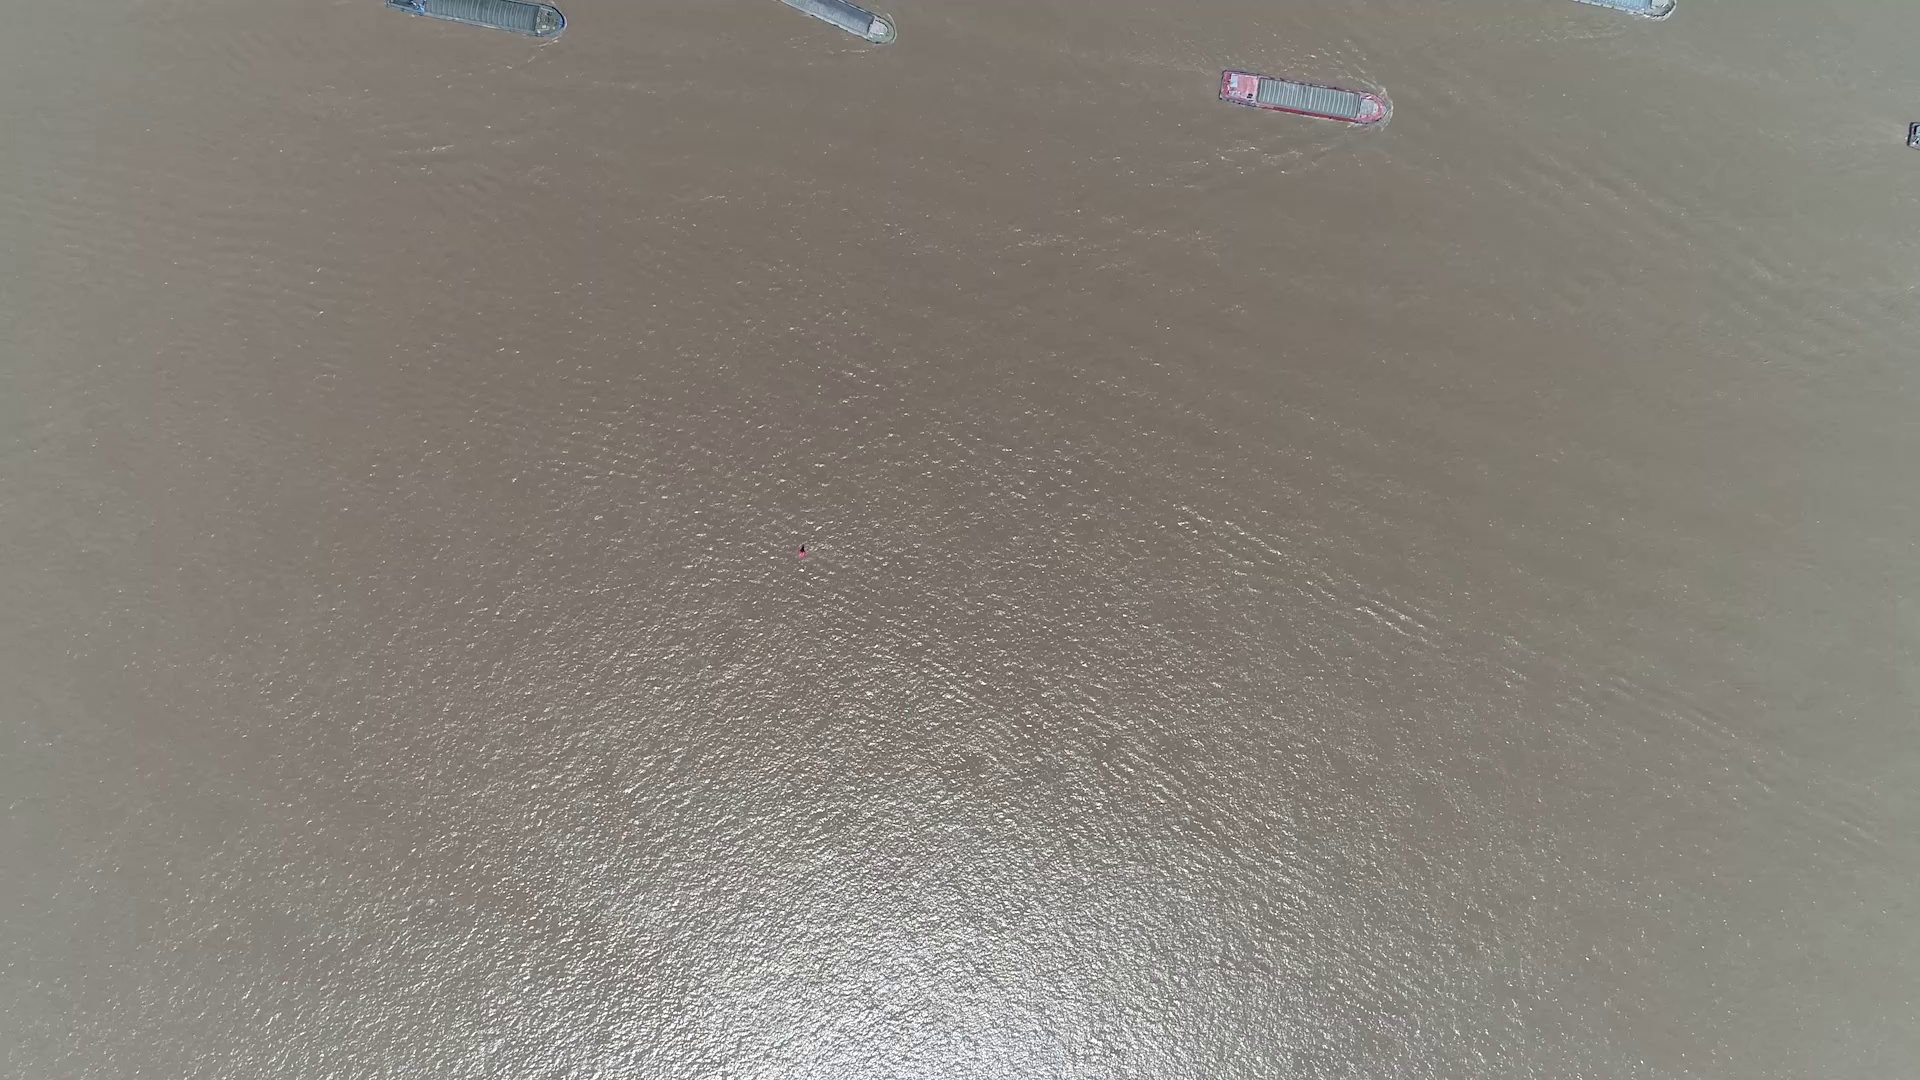ship: (1217, 73, 1389, 127), (385, 1, 562, 36), (782, 0, 895, 45), (1581, 0, 1675, 16)
